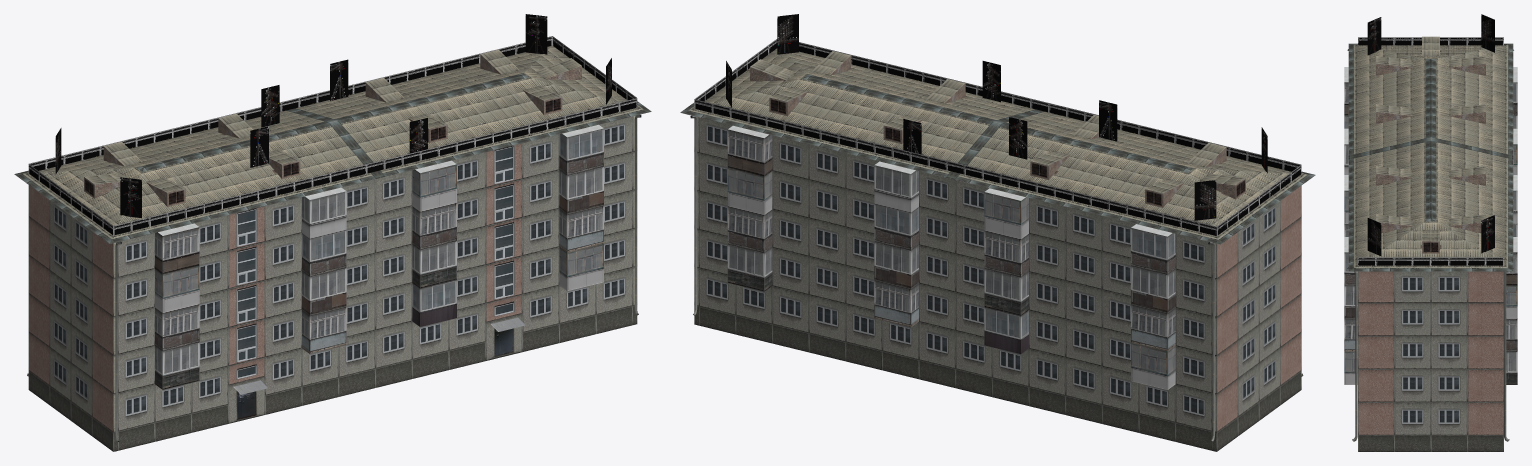
The model's file is rus_build_5et_03.fbx.
3 views of the same model, side by side, from view 1: azimuth 30°, elevation 25°; view 2: azimuth 150°, elevation 25°; view 3: azimuth 270°, elevation 25° (orthographic). The views are drawn at different scales.
Visible parts, largest first — view 1: Regroup13, rus_build_dec_01; view 2: Regroup13, rus_build_dec_01; view 3: Regroup13, rus_build_dec_01.
Boxes of the visible parts, <box> form: Regroup13: <box>14,45,651,451</box>; rus_build_dec_01: <box>28,14,637,235</box>; Regroup13: <box>680,48,1315,451</box>; rus_build_dec_01: <box>694,14,1301,235</box>; Regroup13: <box>1344,36,1517,451</box>; rus_build_dec_01: <box>1358,14,1503,265</box>.
Bounding box in the file's own units: 4130 × 1925 × 1330.
